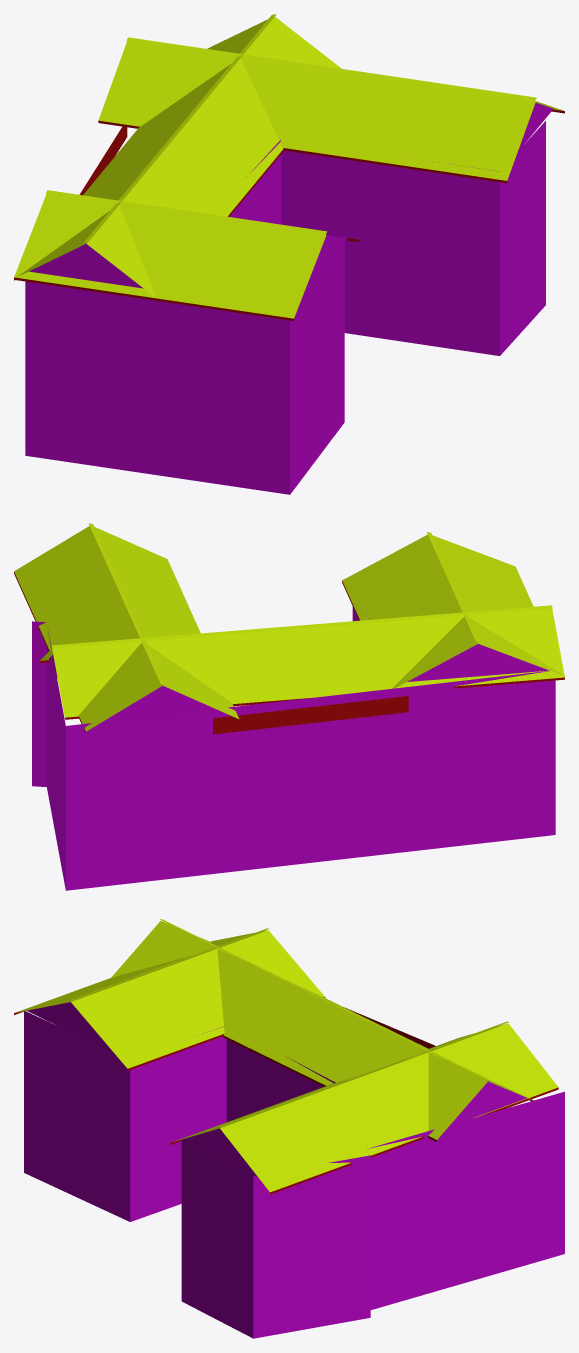
The model's file is ssv_71.glb.
The picture shows the model from 3 angles, top to bottom: view 1: azimuth 30°, elevation 25°; view 2: azimuth 150°, elevation 25°; view 3: azimuth 270°, elevation 25°; orthographic projection. The views are drawn at different scales.
Parts seen in each view (by area): view 1: ssv_71; view 2: ssv_71; view 3: ssv_71.
Boxes of the visible parts, x1=… form: ssv_71: x1=14, y1=14, x2=564, y2=494; ssv_71: x1=14, y1=523, x2=564, y2=890; ssv_71: x1=14, y1=919, x2=564, y2=1338.
Bounding box in the file's own units: 30.32 × 11.28 × 28.15.
